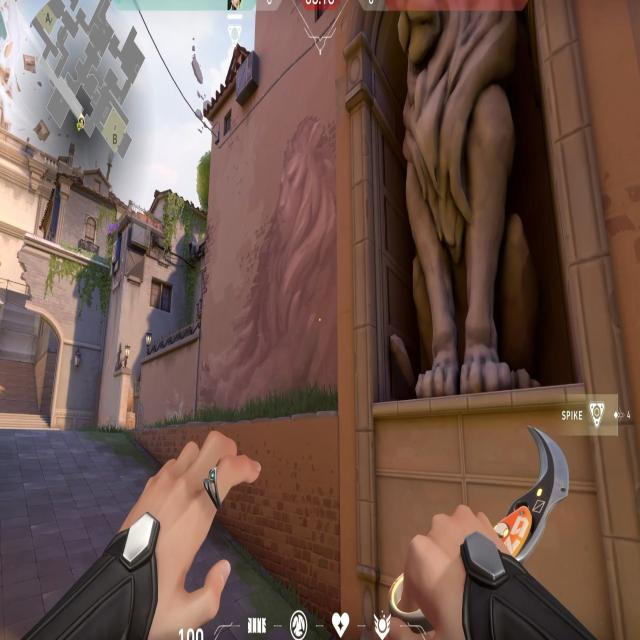Lion_Corner: (329, 5, 628, 472)
